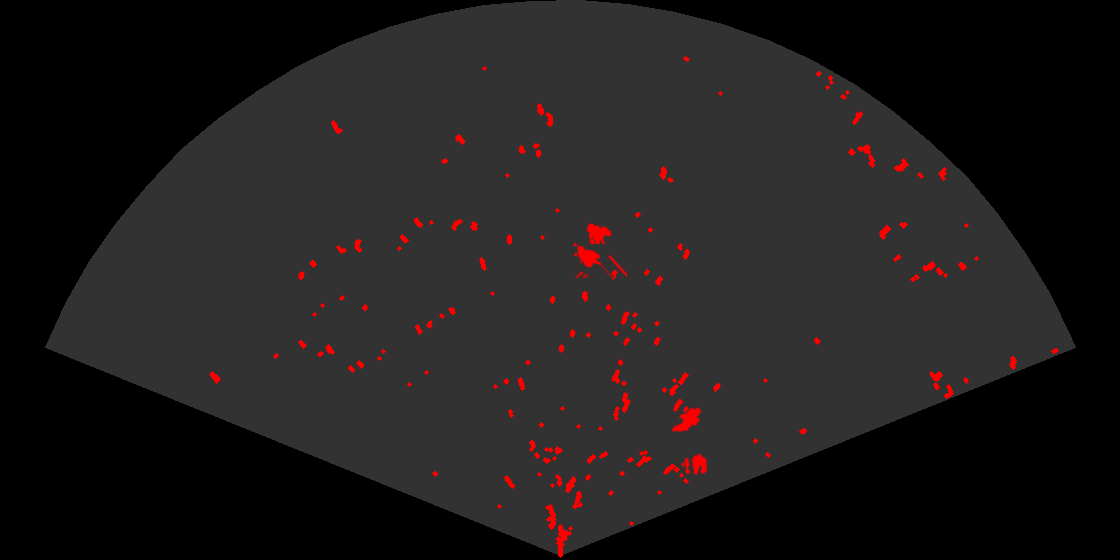AUV: (670, 405, 703, 434)
ball: (683, 452, 708, 477)
cage: (572, 221, 627, 278)
